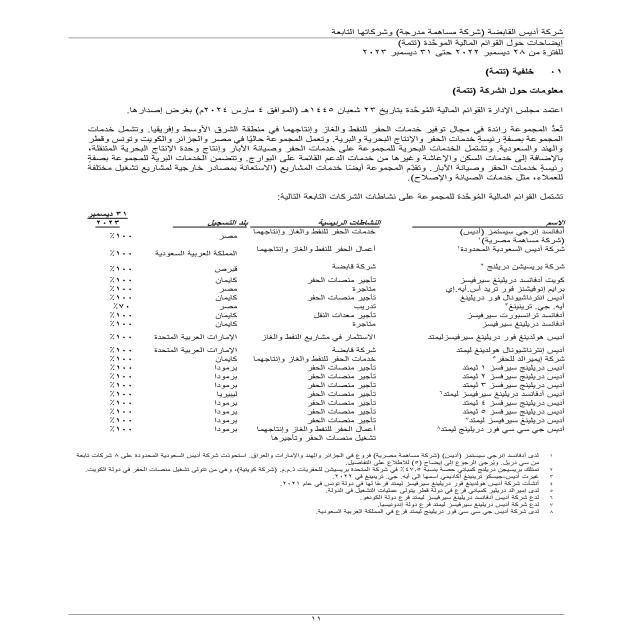notes: (394, 39, 572, 50)
table: (44, 204, 585, 451)
